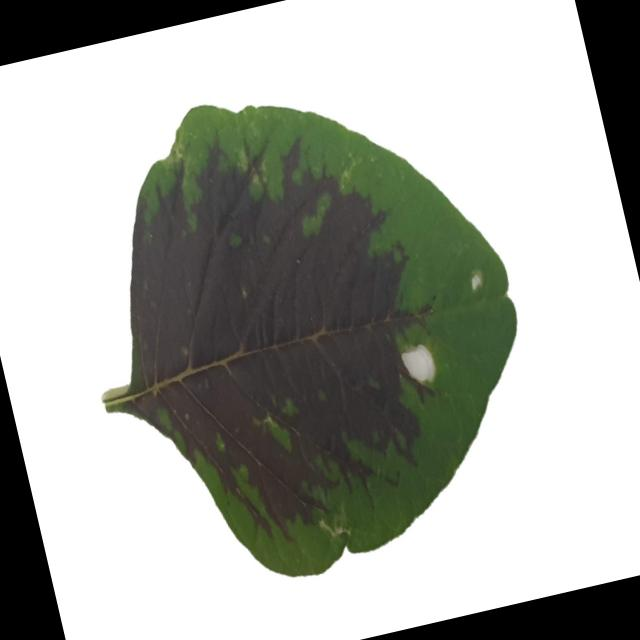Medicinal-Arive Dantu: (38, 41, 564, 612)
